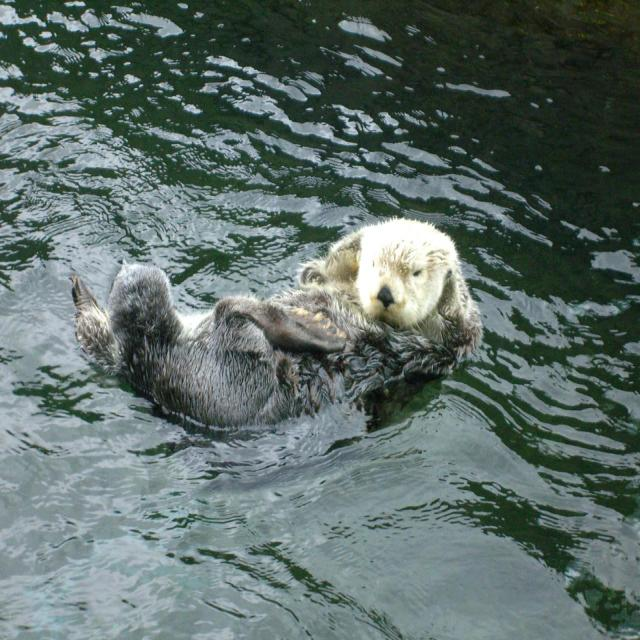otter: (71, 222, 480, 430)
